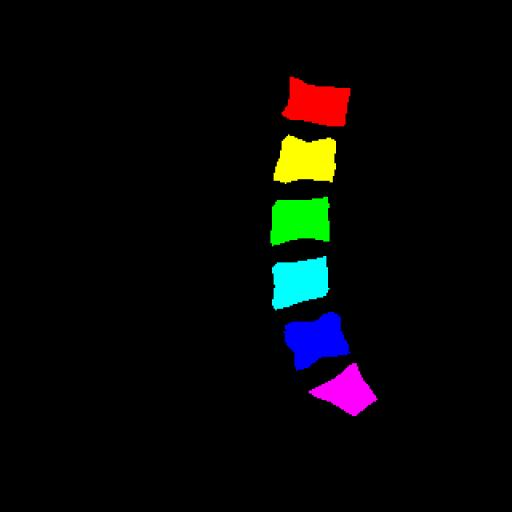L1: (282, 78, 350, 126)
L2: (274, 135, 336, 183)
L3: (270, 198, 330, 246)
L4: (272, 256, 328, 310)
L5: (285, 312, 349, 370)
S1: (313, 363, 377, 416)
